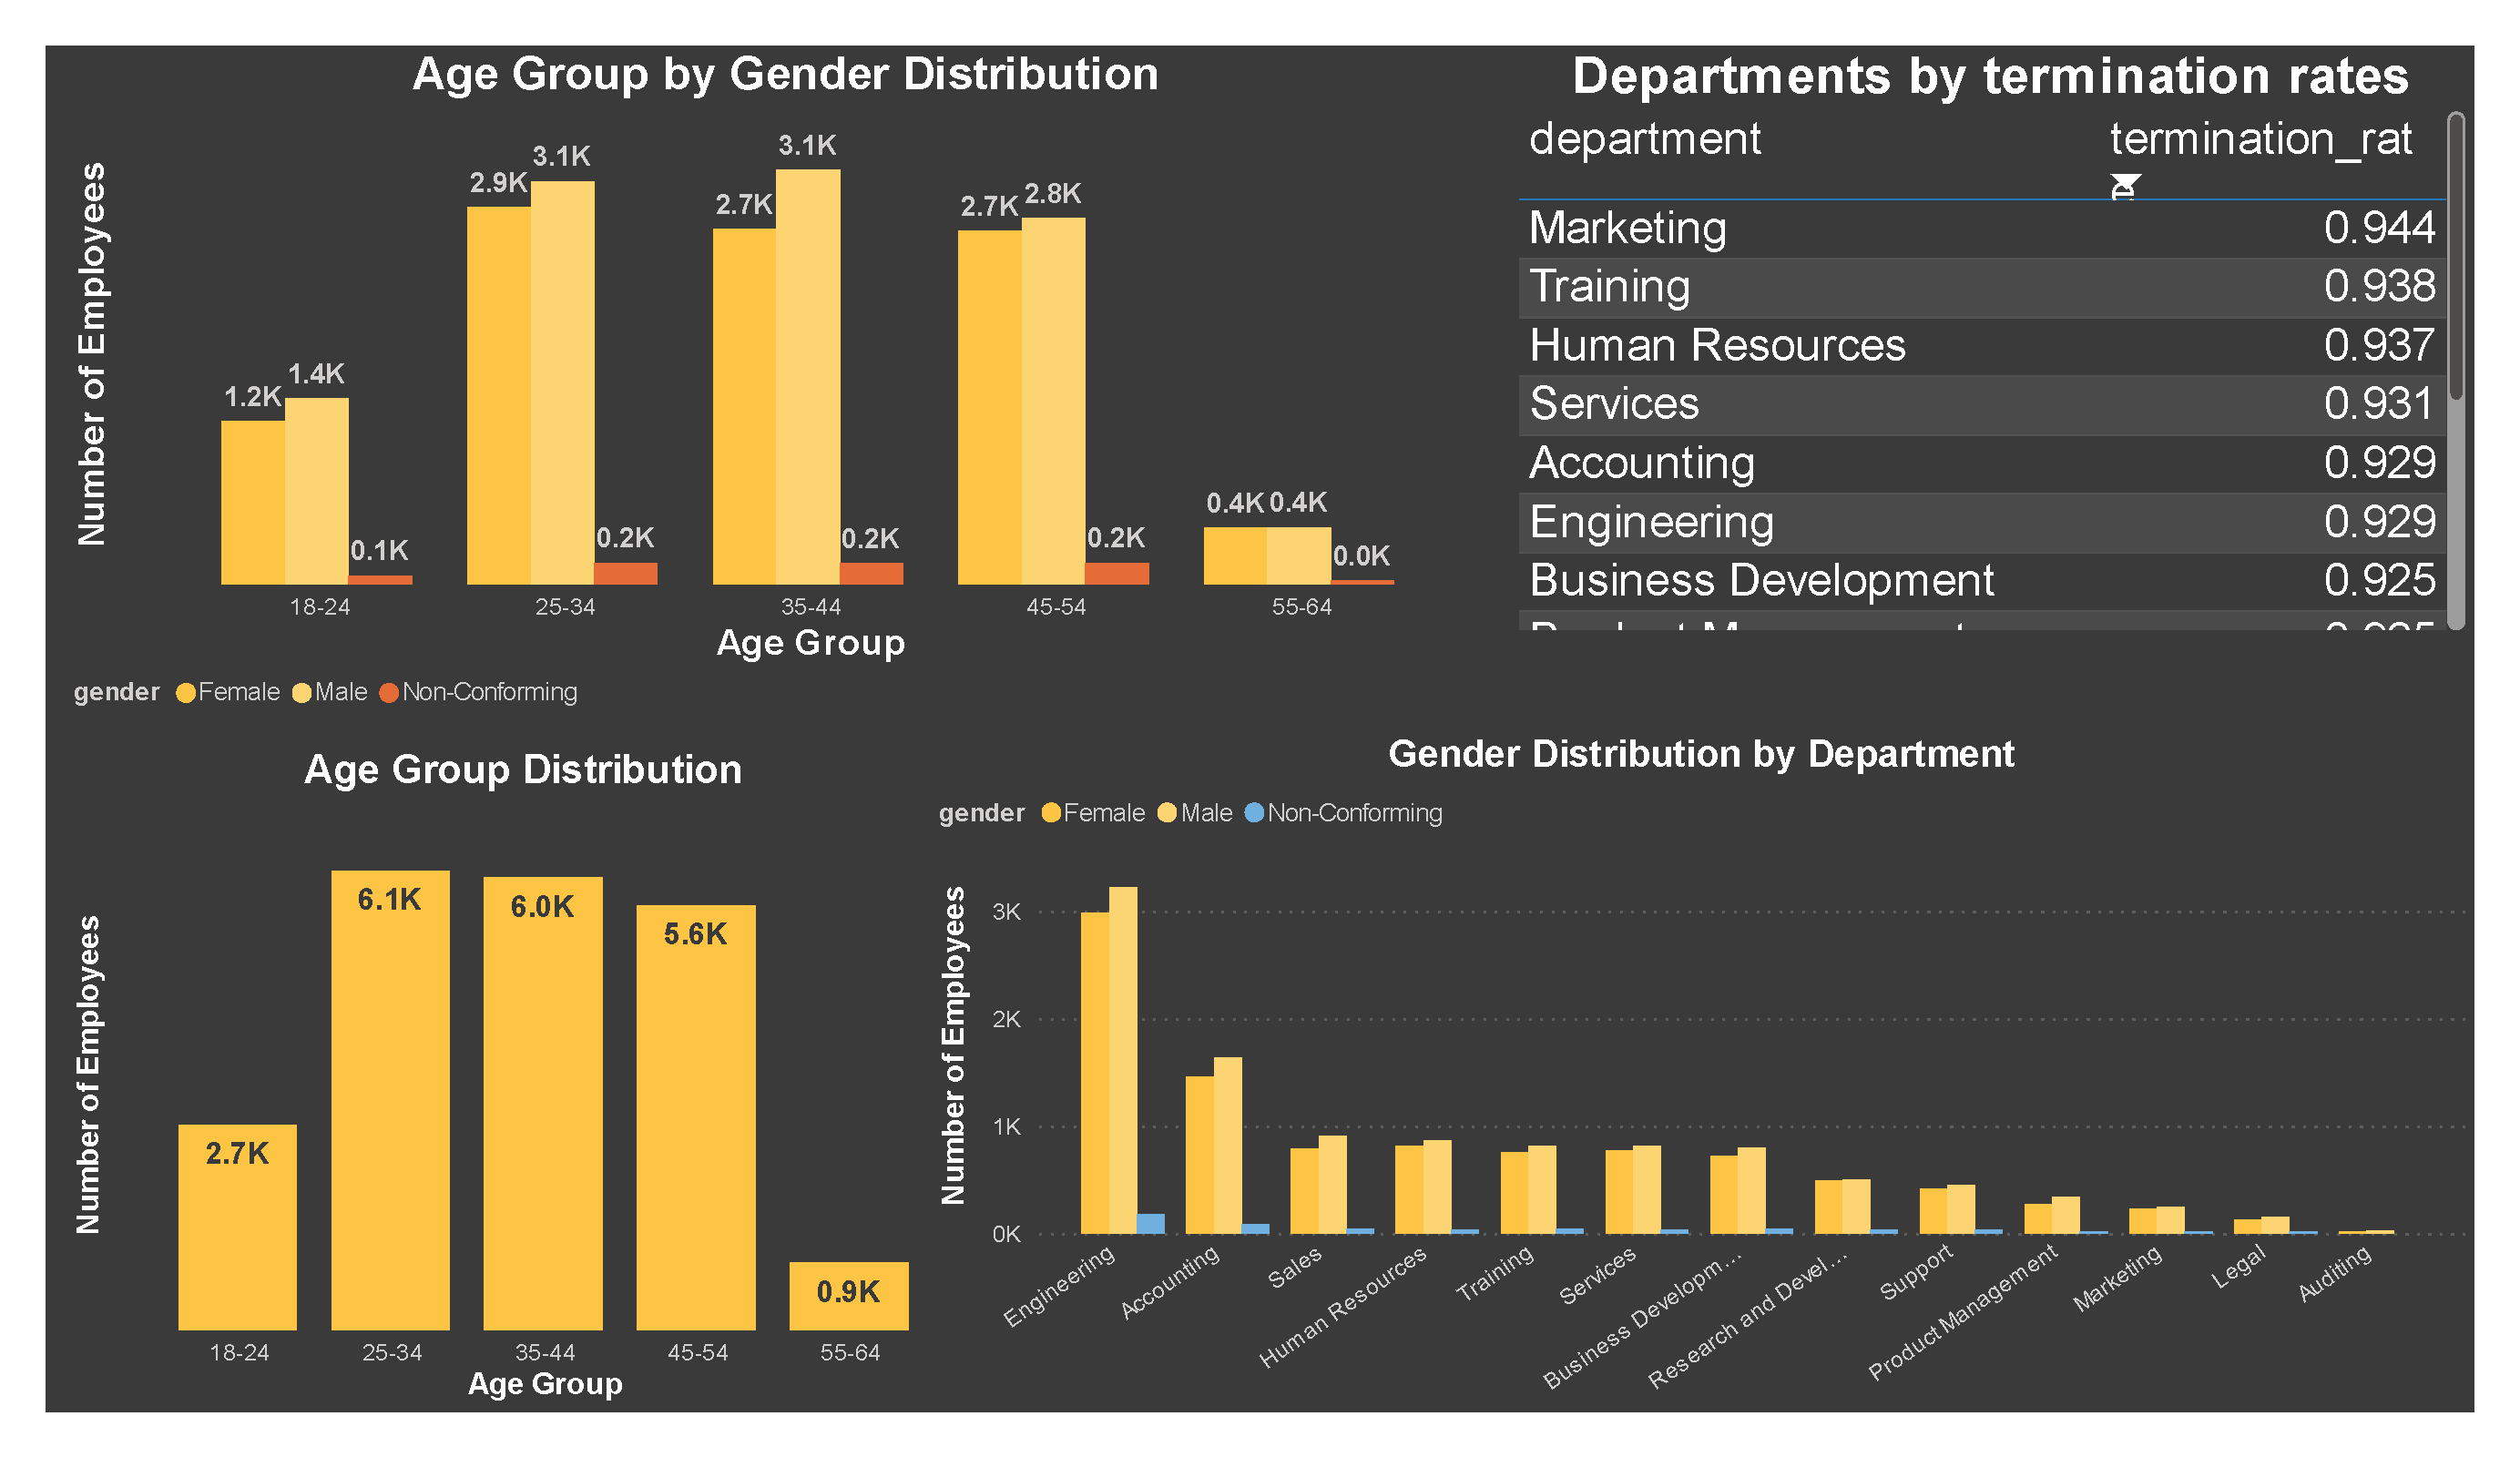

This screenshot's page, from the dashboard's own definition file:
{"tool":"powerbi","page":{"name":"Page 2","canvas":[1280,720],"ordinal":1},"visuals":[{"type":"clusteredColumnChart","title":"Age Group by Gender Distribution","fields":{"Category":["age_group_gender.age_group"],"Y":["Sum(age_group_gender.count)"],"Series":["age_group_gender.gender"]},"box":[10,0,761,360],"z":0},{"type":"clusteredColumnChart","title":"Age Group Distribution","fields":{"Category":["age_group.age_group"],"Y":["Sum(age_group.count)"]},"box":[10,370,484,350],"z":1000},{"type":"clusteredColumnChart","title":"Gender Distribution by Department","fields":{"Y":["Sum(gender_depts.count)"],"Category":["gender_depts.department"],"Series":["gender_depts.gender"]},"box":[466,361,814,359],"z":2000},{"type":"tableEx","title":"Departments by termination rates","fields":{"Values":["dept_high_term.department","dept_high_term.termination_rate"]},"box":[771,0,509,313],"z":3000}]}

Visuals, with their boxes in screenshot pixels (x1, y1, x2, y2):
"Age Group by Gender Distribution" clusteredColumnChart: crop(65, 46, 1508, 728)
"Age Group Distribution" clusteredColumnChart: crop(65, 748, 983, 1411)
"Gender Distribution by Department" clusteredColumnChart: crop(930, 730, 2474, 1411)
"Departments by termination rates" tableEx: crop(1508, 46, 2474, 639)
